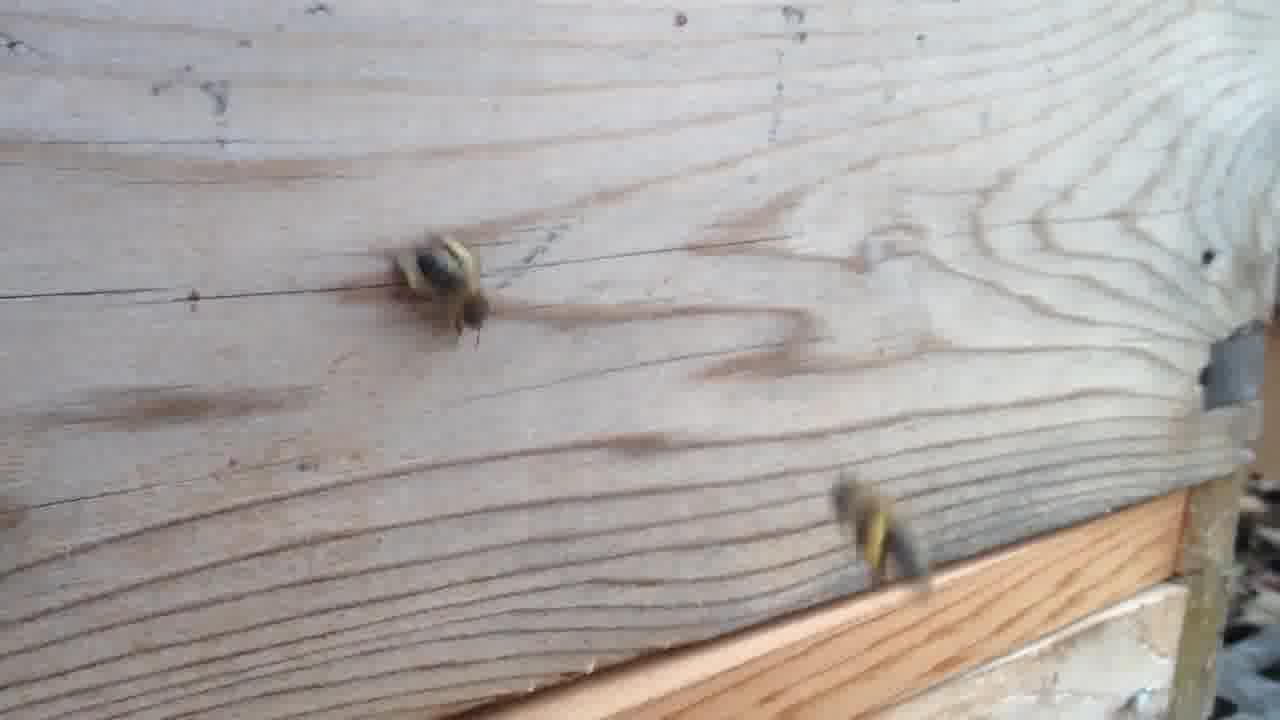pollen: (385, 225, 501, 349), (825, 471, 936, 593)
